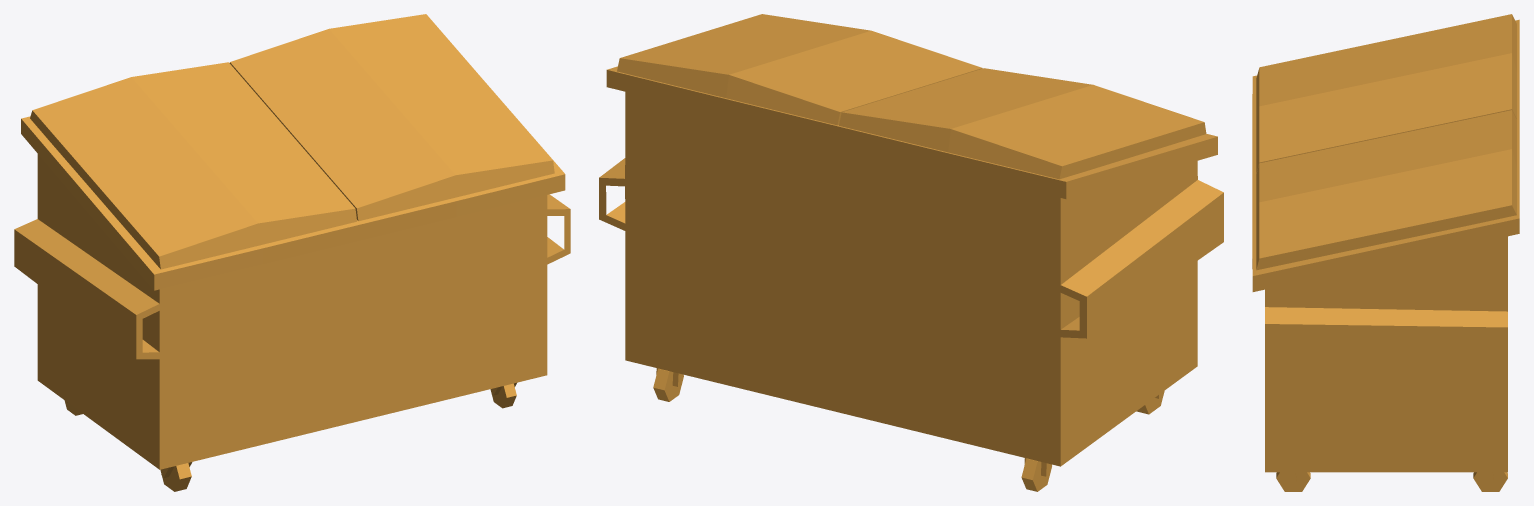
Rendered from props-dumpster-lids.glb.
3 views of the same model, side by side, from view 1: azimuth 30°, elevation 25°; view 2: azimuth 150°, elevation 25°; view 3: azimuth 270°, elevation 25° (orthographic). The views are drawn at different scales.
Parts seen in each view (by area): view 1: dumpster-lids-base, dumpster-lid_L, dumpster-lid_B; view 2: dumpster-lids-base, dumpster-lid_L, dumpster-lid_B; view 3: dumpster-lids-base, dumpster-lid_B, dumpster-lid_L.
Boxes of the visible parts, box(x1,y1,x2,y2) form: dumpster-lids-base: box(14, 91, 570, 491); dumpster-lid_L: box(30, 62, 356, 269); dumpster-lid_B: box(229, 14, 554, 221); dumpster-lids-base: box(599, 66, 1223, 491); dumpster-lid_L: box(839, 68, 1206, 179); dumpster-lid_B: box(617, 14, 982, 125); dumpster-lids-base: box(1252, 19, 1519, 491); dumpster-lid_B: box(1256, 110, 1516, 270); dumpster-lid_L: box(1256, 14, 1516, 173).
Size of the model in its own units: 2.05 by 1.42 by 1.1.
